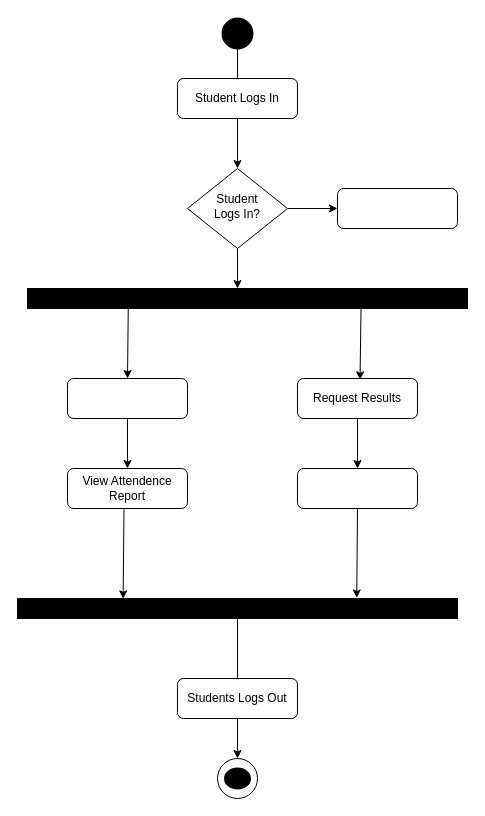
The diagram is 485 pixels wide and 816 high, and some of its shapes have lost their labels. The shapes that lost their labels are listed below. From the top down, each one's centre as x and y in pixels, then its label:
the point at 397,208: Not Authantication
the point at 127,398: Request Attendance
the point at 357,488: View Results
